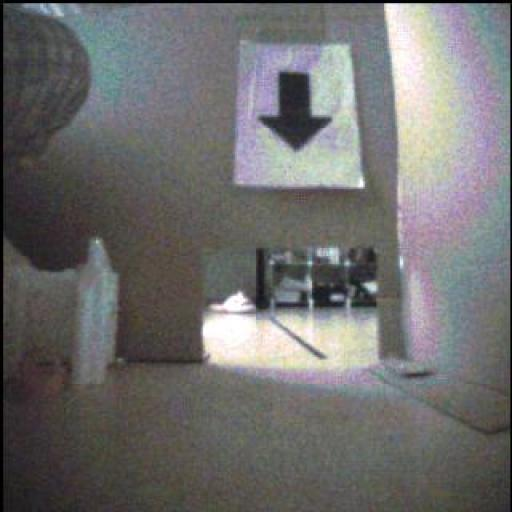arrow: (260, 73, 332, 151)
